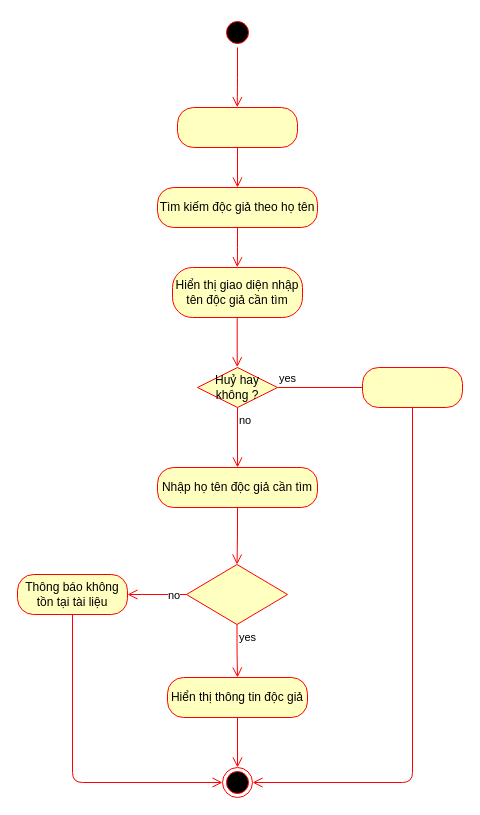
This 480x815 diagram has some shape labels left out. The centre of each missing label's shape, as x and y in pixels:
Huỷ tìm độc giả: (412,387)
Đăng nhập: (237,127)
độc giả tồn tại?: (237,594)
